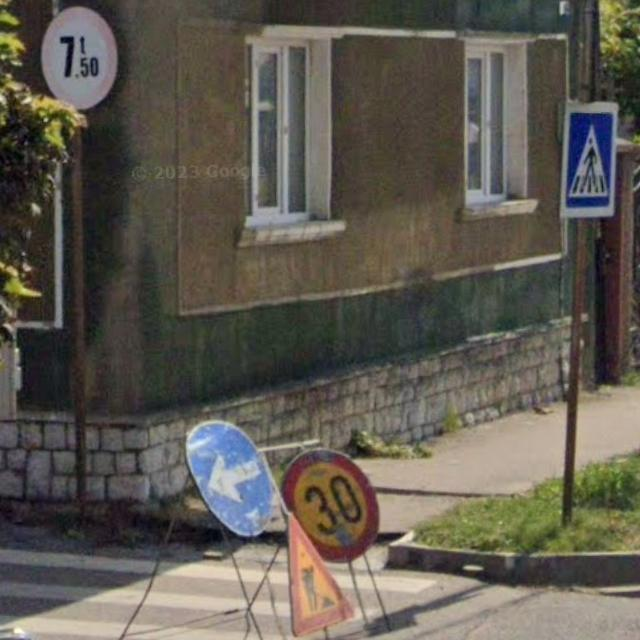forb_speed_over_30: (280, 448, 382, 563)
info_crosswalk: (560, 104, 619, 219)
